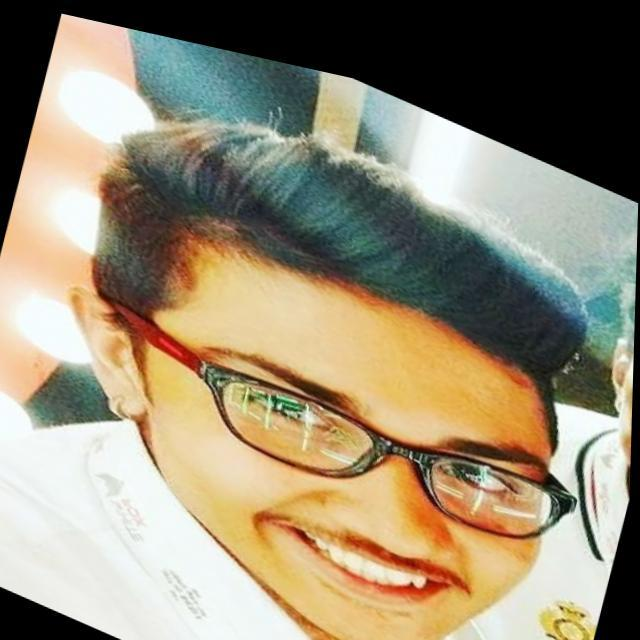Nonhelmet: (87, 90, 587, 638)
